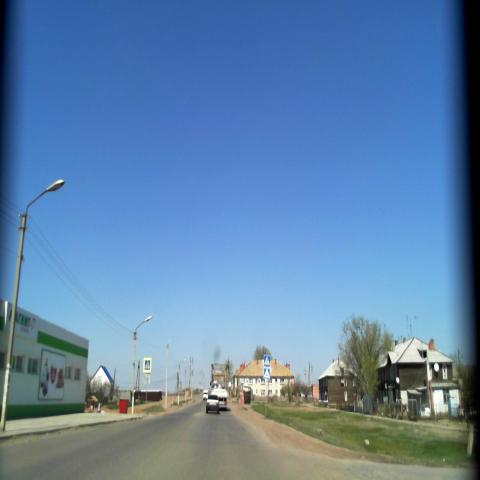5_19_1: (144, 357, 152, 371), (263, 354, 271, 366)
5_20: (263, 366, 270, 379)
